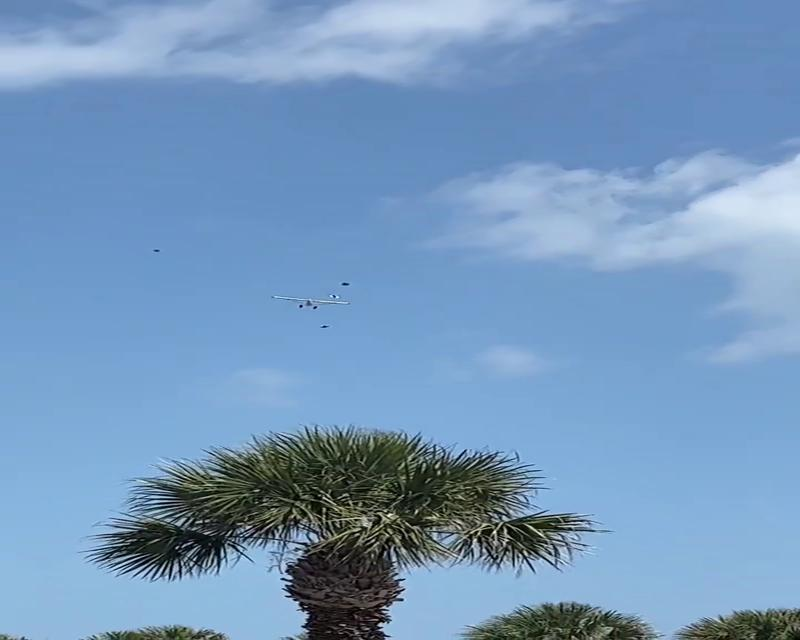UAV: (270, 294, 350, 311)
